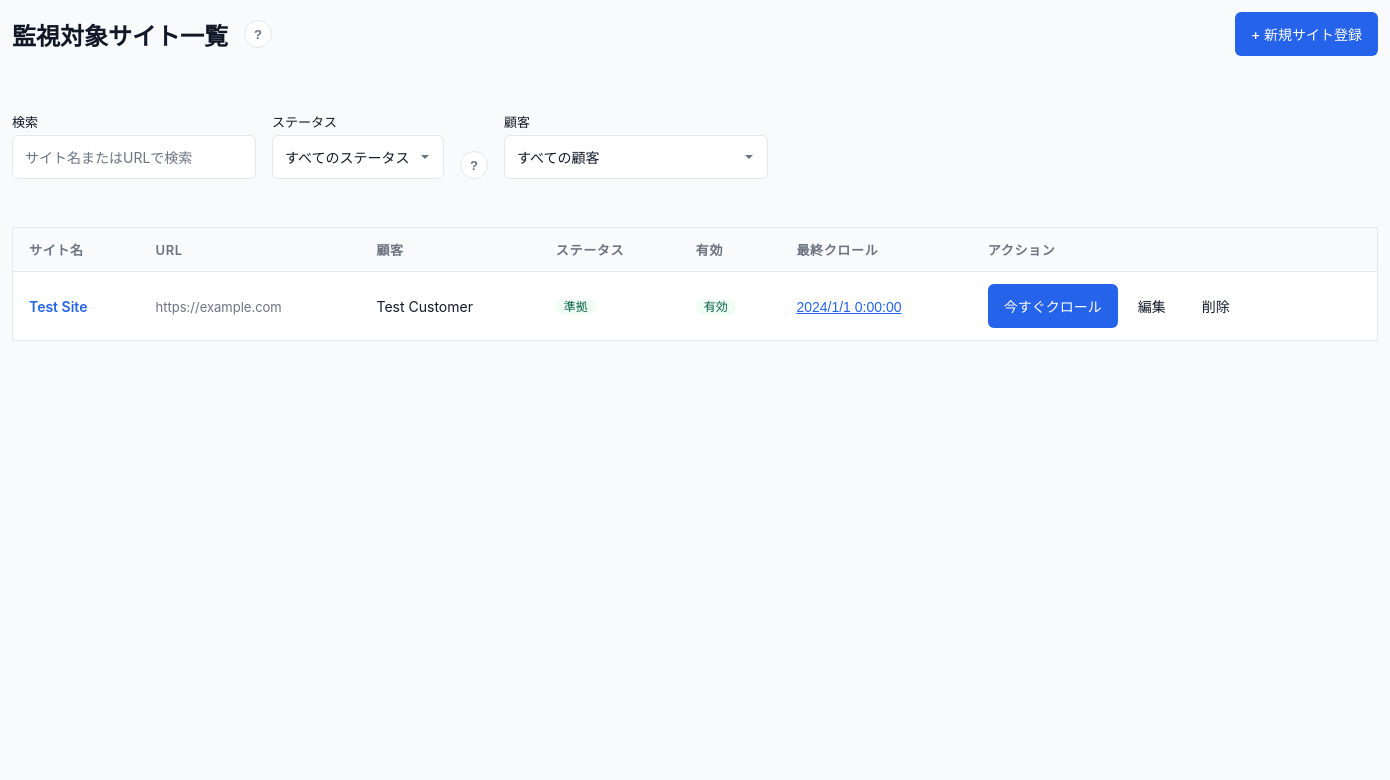
Test case: Sites - Crawl Button › should show success toast when crawl completes
Step 1. Click the button "今すぐクロール" → (1053,306), box [988,284,1118,328]
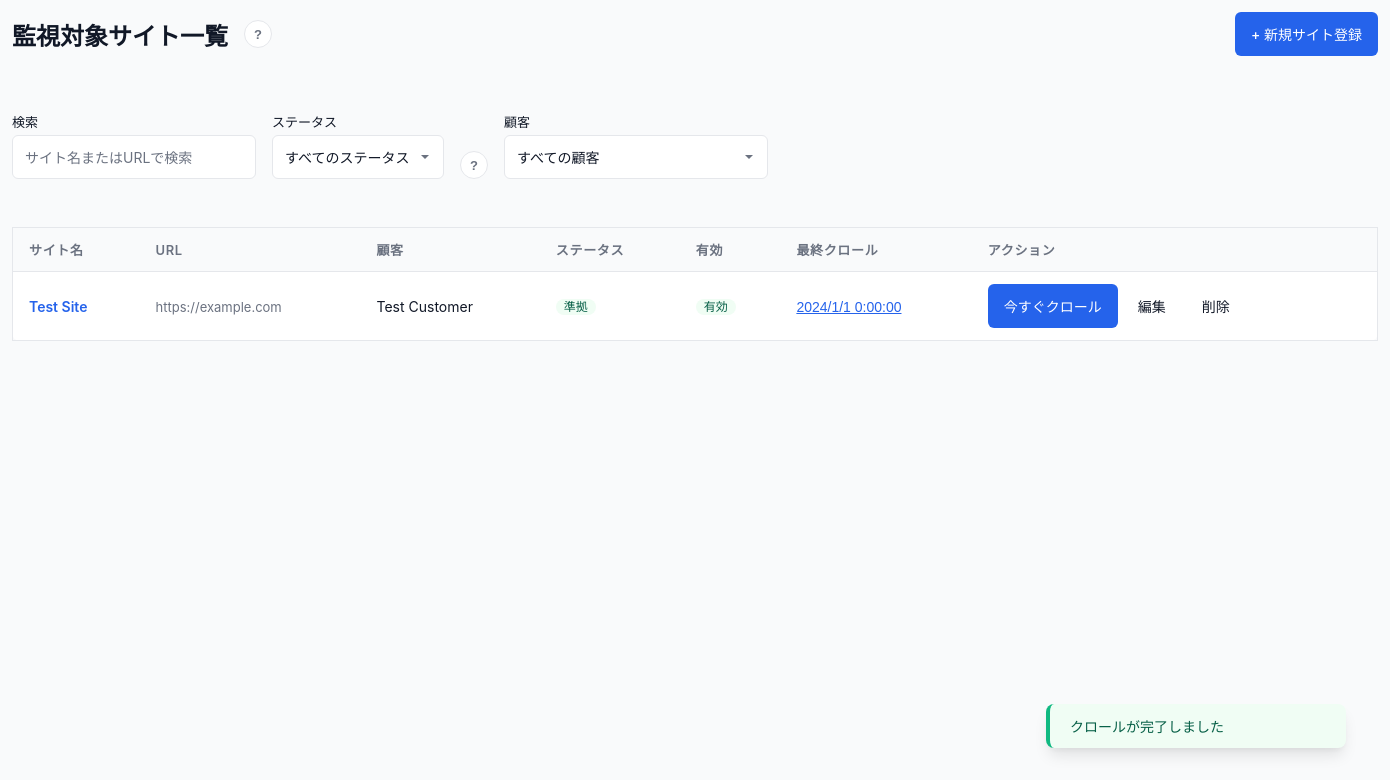
Expected: the text "クロールが完了しました" is shown, [1046,704,1346,748]
